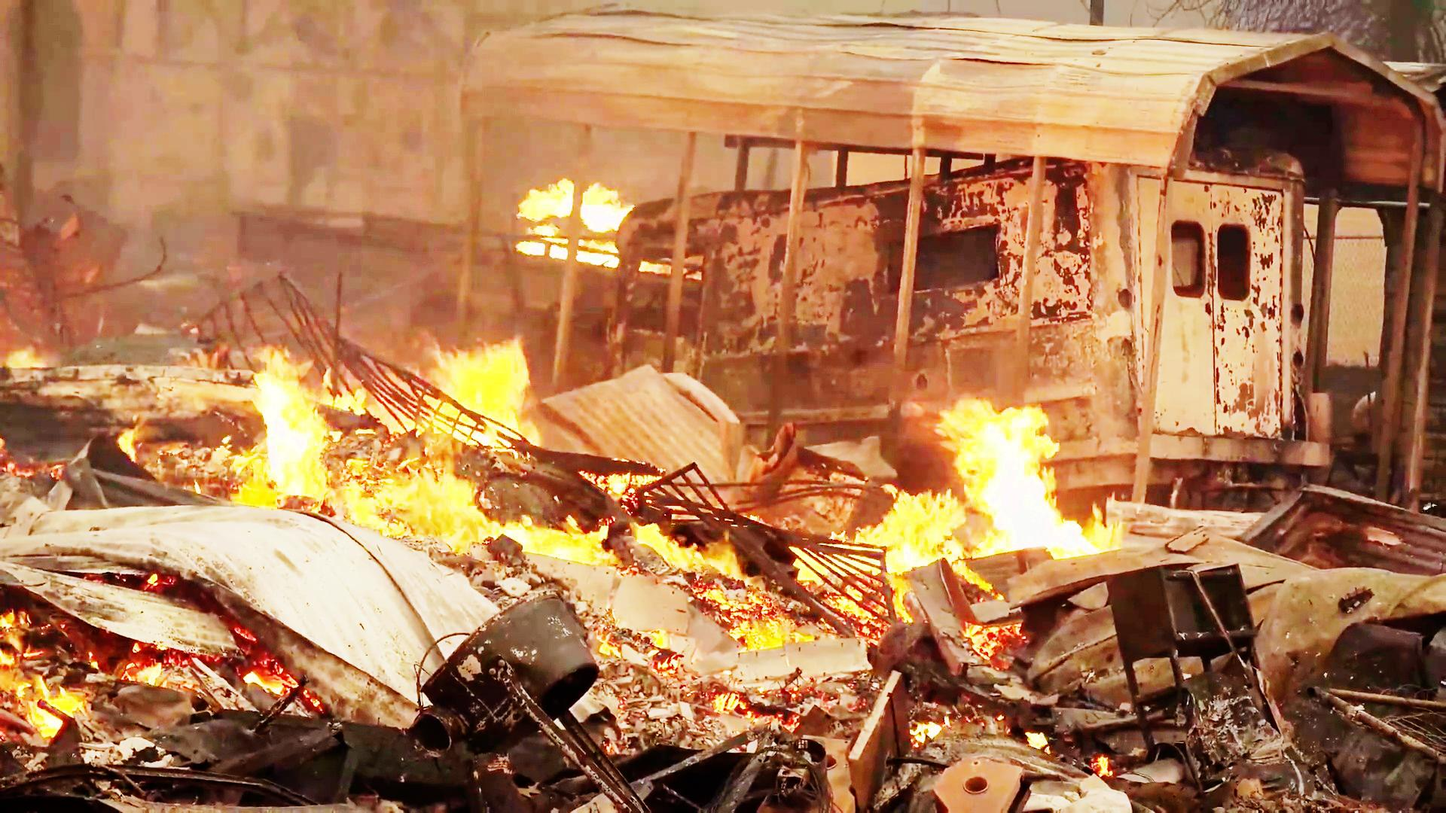fire: (946, 384, 1129, 572), (232, 339, 383, 518), (412, 326, 584, 454)
